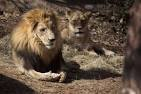lion: (5, 11, 63, 91), (63, 4, 94, 55)
